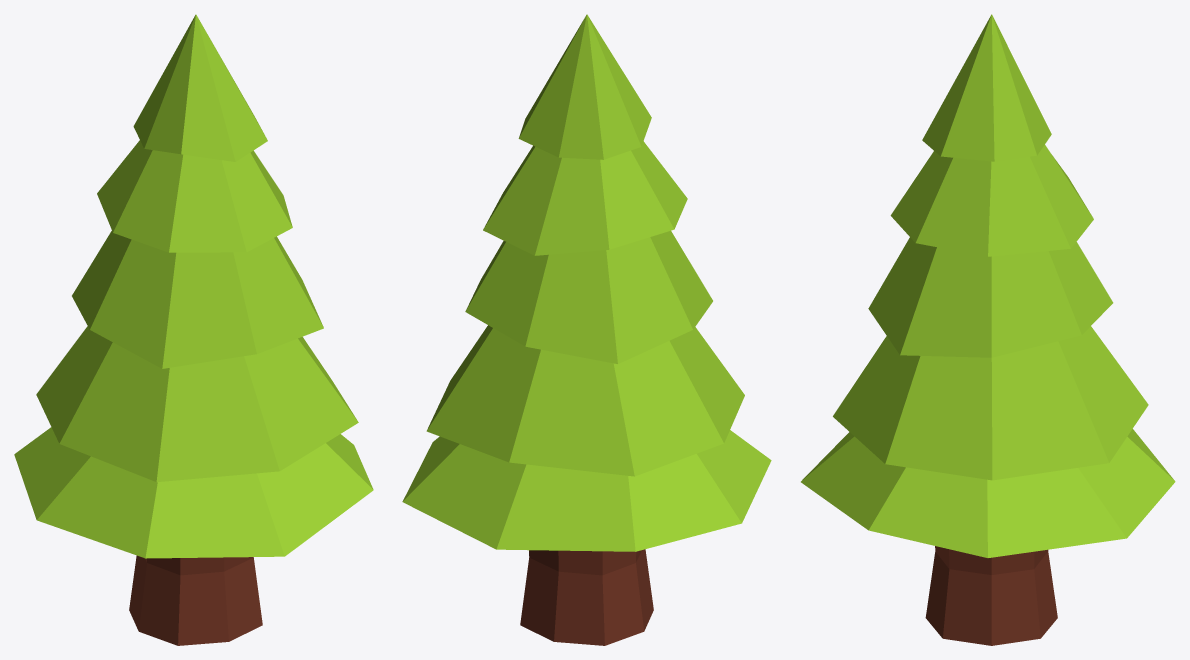
The model's file is maya_export_Tree2_v4.fbx.
The picture shows the model from 3 angles, left to right: view 1: azimuth 30°, elevation 25°; view 2: azimuth 150°, elevation 25°; view 3: azimuth 270°, elevation 25°; orthographic projection.
Parts seen in each view (by area): view 1: Tree2_v4; view 2: Tree2_v4; view 3: Tree2_v4.
Boxes of the visible parts, x1,y1,x2,y2 form: Tree2_v4: (14,14,373,645); Tree2_v4: (402,14,771,645); Tree2_v4: (801,14,1175,645).
Size of the model in its own units: 3.2 by 5.9 by 3.32.
1 material, 1 textured.
